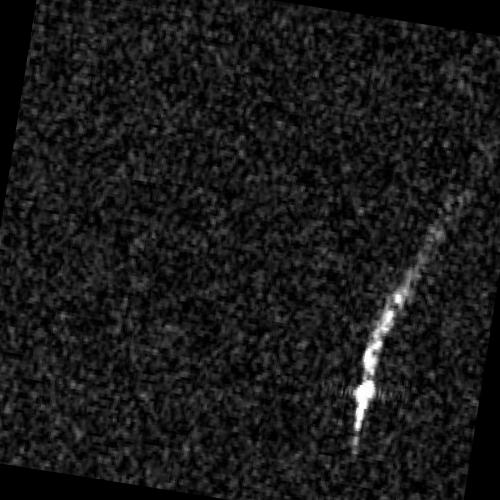ship: (352, 330, 382, 437)
